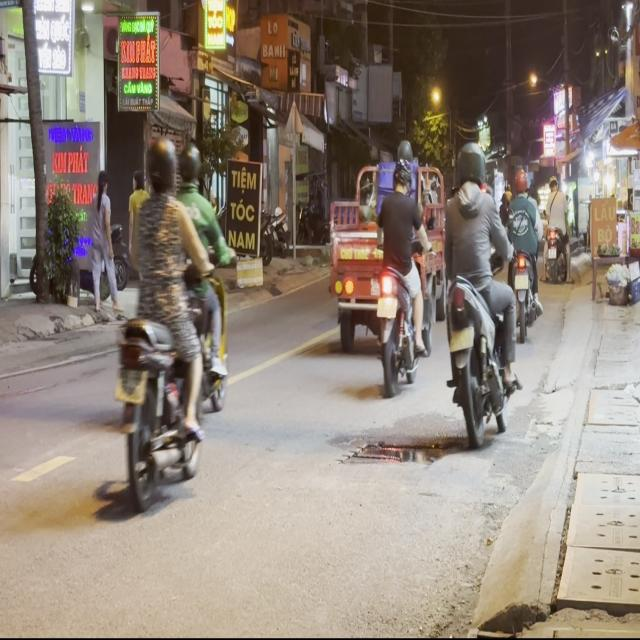helmet: (143, 136, 175, 194), (454, 140, 485, 190), (177, 143, 200, 188), (392, 159, 412, 190)
licenseplate: (105, 133, 227, 514), (439, 137, 519, 443), (373, 139, 428, 392)
nohelmet: (114, 368, 145, 402), (449, 326, 473, 352), (376, 296, 396, 317)
